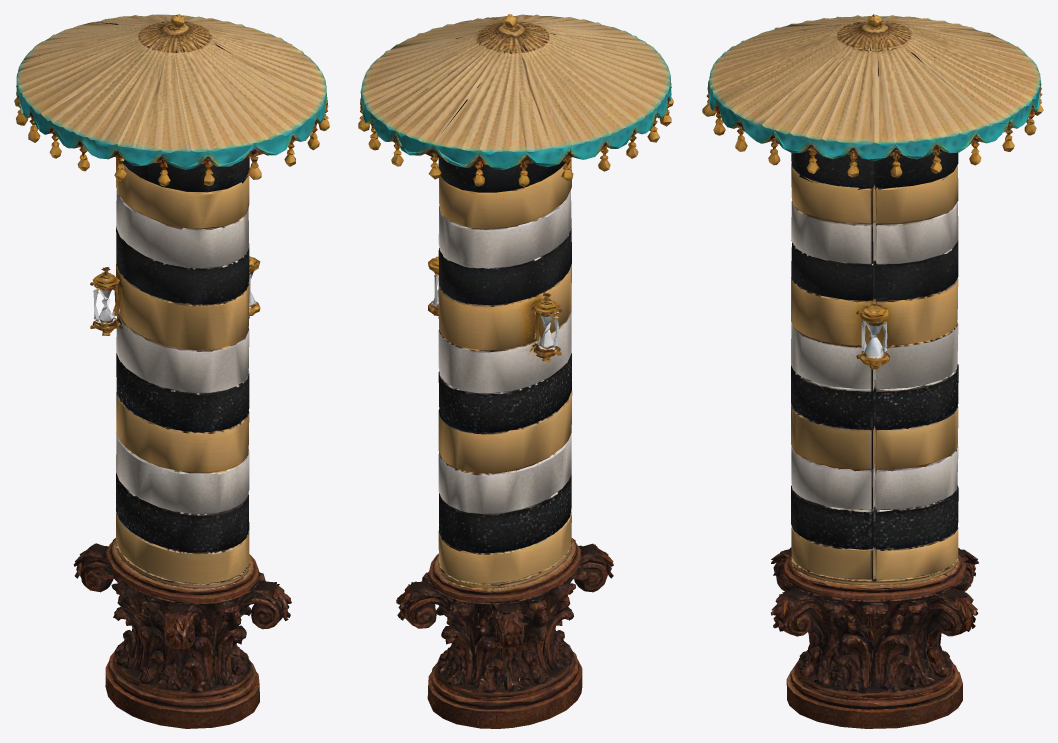
Rendered from TH-04_tall_cabinet_game.glb.
The picture shows the model from 3 angles, left to right: view 1: azimuth 30°, elevation 25°; view 2: azimuth 150°, elevation 25°; view 3: azimuth 270°, elevation 25°; orthographic projection.
Parts seen in each view (by area): view 1: TH-04_tall_cabinet; view 2: TH-04_tall_cabinet; view 3: TH-04_tall_cabinet.
Boxes of the visible parts, bbox=[...] form: TH-04_tall_cabinet: bbox=[14, 14, 329, 728]; TH-04_tall_cabinet: bbox=[358, 14, 673, 728]; TH-04_tall_cabinet: bbox=[702, 14, 1043, 728].
Size of the model in its own units: 0.795 by 1.95 by 0.8855.
Materials: 1 (1 with a texture image).
